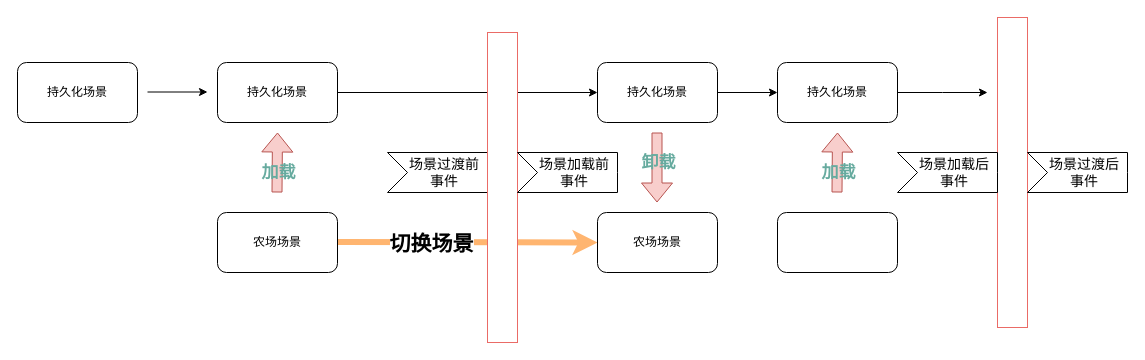
This 1145x360 diagram has some shape labels left out. Each missing label, with the box of its shape:
农场房子内部场景: (776, 212, 898, 272)
场 景 过 渡 切换 亮屏: (996, 16, 1028, 328)
场 景 过 渡 切换 黑屏: (486, 32, 518, 342)
